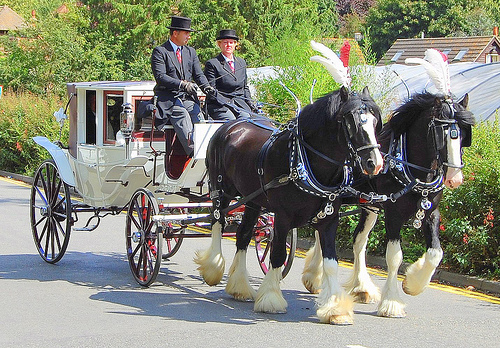horse: (196, 86, 387, 326), (295, 89, 474, 321)
